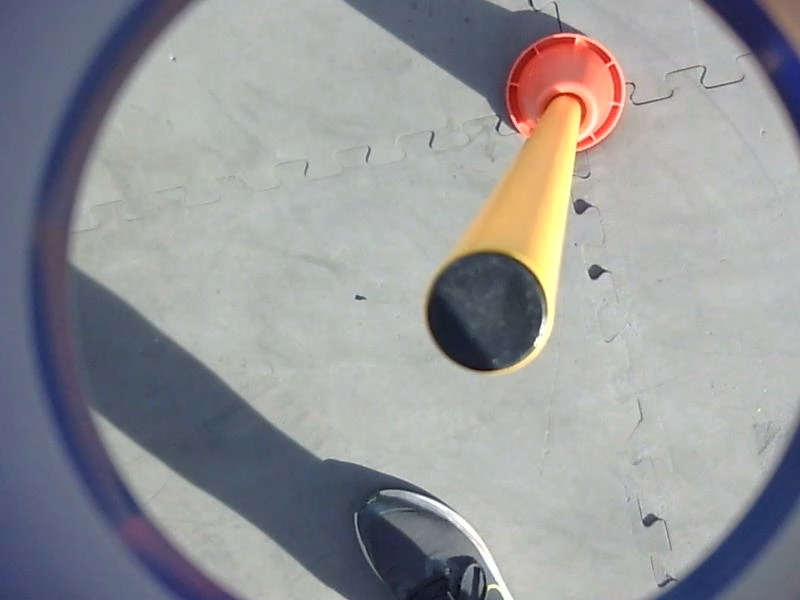tip: (417, 246, 557, 382)
